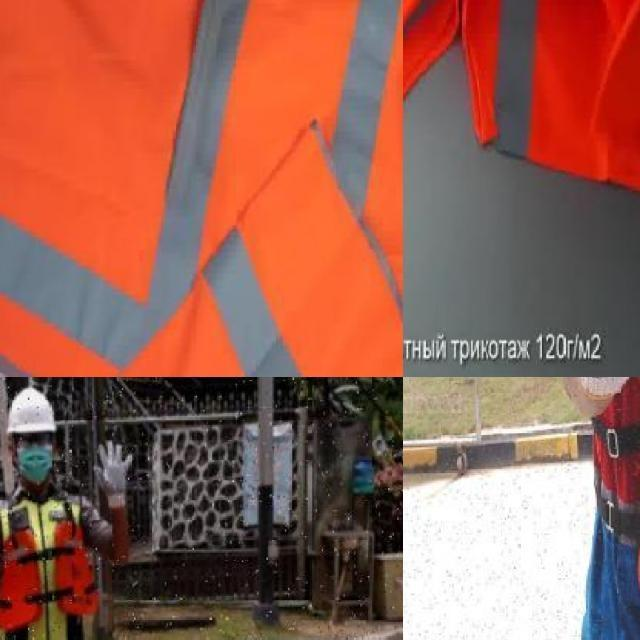apron: (92, 439, 135, 513)
